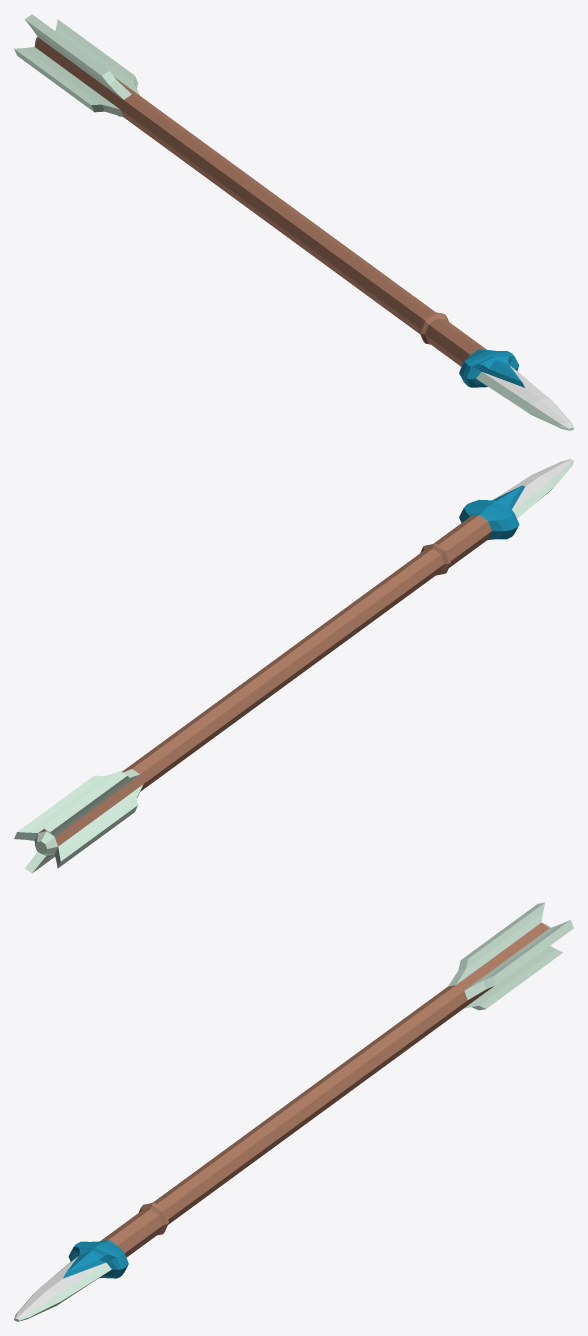
Rendered from puscica_skin.fbx.
The picture shows the model from 3 angles, top to bottom: view 1: azimuth 30°, elevation 25°; view 2: azimuth 150°, elevation 25°; view 3: azimuth 330°, elevation 25°; orthographic projection.
Visible parts, largest first — view 1: Circle; view 2: Circle; view 3: Circle.
Boxes of the visible parts, <box> form: Circle: <box>14,14,573,430</box>; Circle: <box>14,459,573,873</box>; Circle: <box>14,902,573,1321</box>.
Size of the model in its own units: 34.29 by 29.23 by 577.
